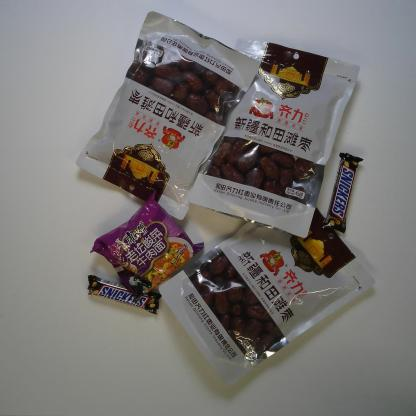Chocolate: (320, 151, 365, 235), (86, 274, 162, 316)
Dried Food: (158, 204, 376, 385), (74, 10, 260, 222), (189, 36, 361, 240)
Instant Noodles: (88, 190, 206, 299)
